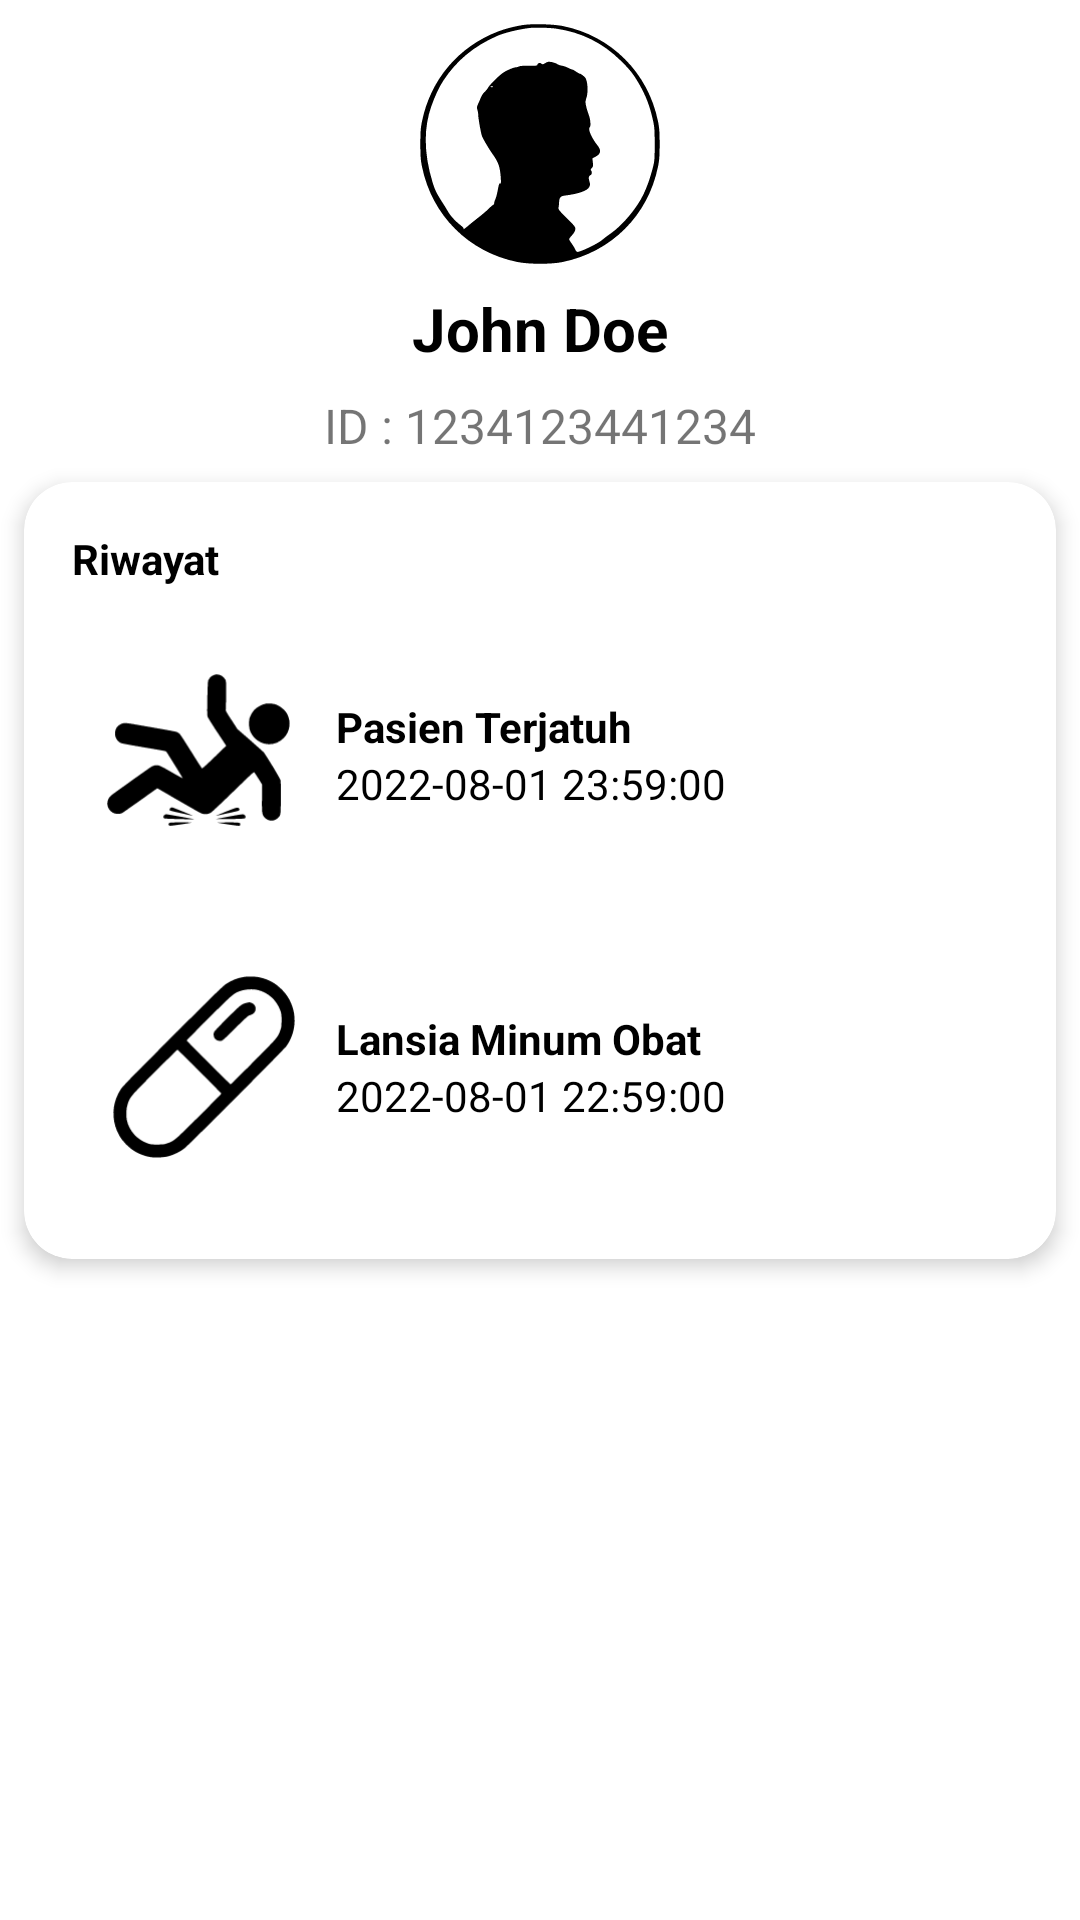

Icons on this 1080px×1920px Android screen, each with its box as (x1, y1, x2, y2):
fall: (107, 674, 290, 826)
pill: (113, 976, 295, 1158)
